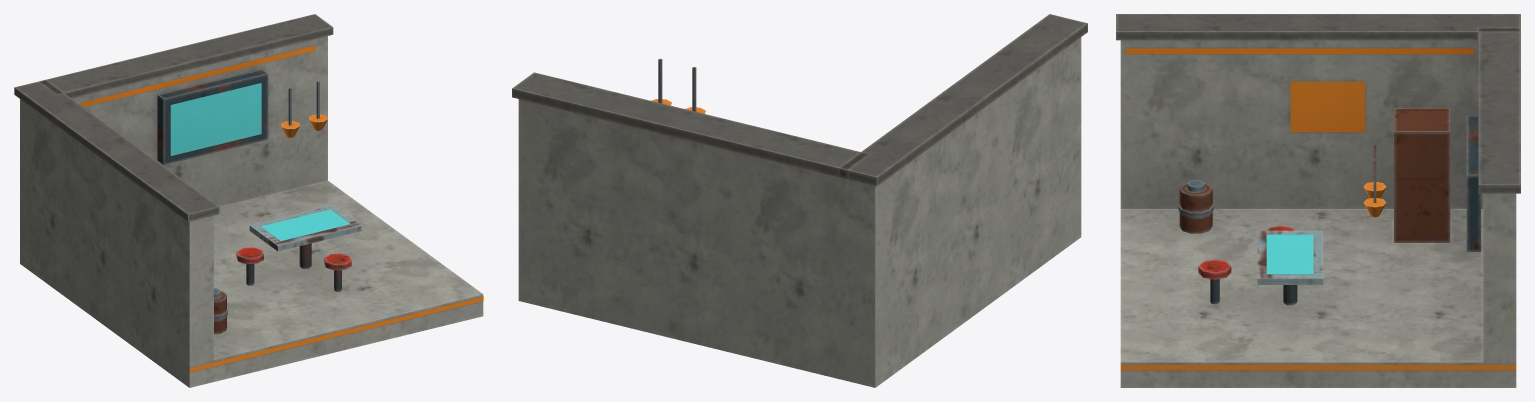
The model's file is recreation_corner.glb.
3 renders of one model, left to right at view 1: azimuth 30°, elevation 25°; view 2: azimuth 150°, elevation 25°; view 3: azimuth 270°, elevation 25°, orthographic. The views are drawn at different scales.
Visible parts, largest first — view 1: te_recreation_corner; view 2: te_recreation_corner; view 3: te_recreation_corner.
Part boxes in pixels (bbox=[...]): te_recreation_corner: bbox=[14, 14, 483, 387]; te_recreation_corner: bbox=[512, 14, 1087, 387]; te_recreation_corner: bbox=[1116, 14, 1520, 387].
Size of the model in its own units: 0.86 by 0.48 by 0.86.
Materials: 1 (1 with a texture image).
